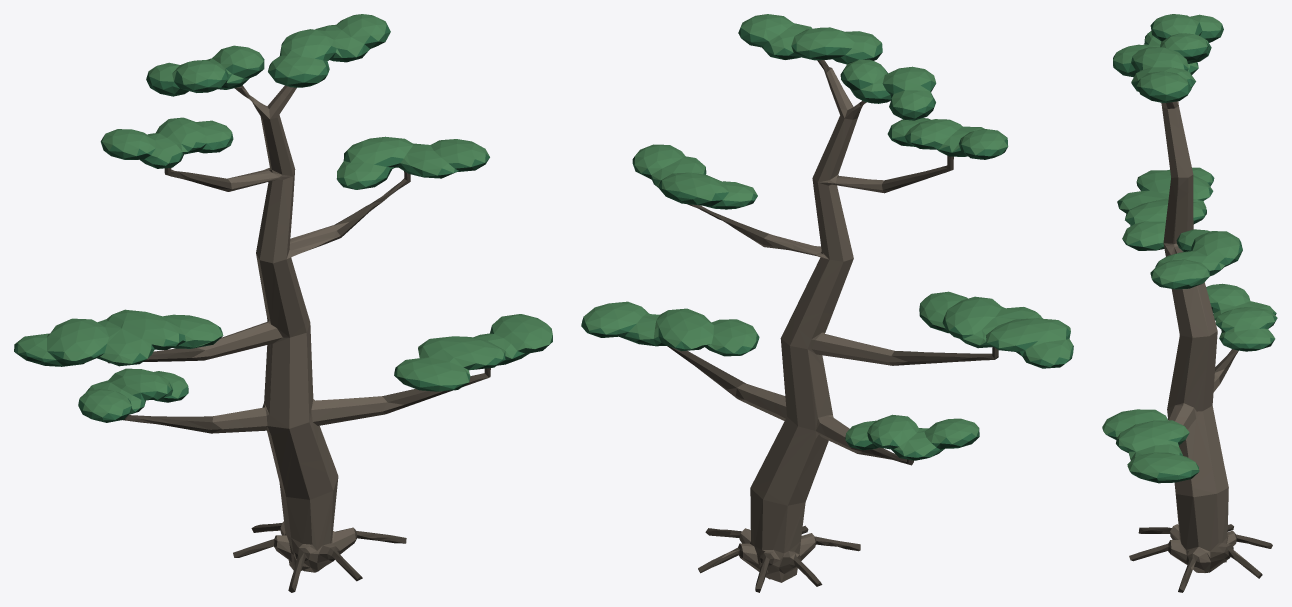
Rendered from ancient-pine-5566-lod0.glb.
3 renders of one model, left to right at view 1: azimuth 30°, elevation 25°; view 2: azimuth 150°, elevation 25°; view 3: azimuth 270°, elevation 25°, orthographic. The views are drawn at different scales.
Visible parts, largest first — view 1: n12.004, n8.004, n11.004, n9.004, n10.004; view 2: n12.004, n8.004, n11.004, n9.004, n10.004; view 3: n12.004, n8.004, n11.004, n9.004, n10.004.
Part boxes in pixels (x1,y1,x2,y2): n12.004: [15, 14, 552, 417]; n8.004: [192, 85, 405, 572]; n11.004: [14, 22, 552, 420]; n9.004: [107, 85, 490, 592]; n10.004: [15, 41, 549, 422]; n12.004: [583, 14, 1072, 456]; n8.004: [721, 68, 907, 582]; n11.004: [581, 27, 1073, 457]; n9.004: [667, 60, 998, 592]; n10.004: [581, 38, 1070, 460]; n12.004: [1102, 14, 1276, 477]; n8.004: [1161, 101, 1245, 572]; n11.004: [1102, 21, 1277, 480]; n9.004: [1129, 349, 1272, 592]; n10.004: [1107, 32, 1276, 483].
Bounding box in the file's own units: 5.23 × 5.43 × 1.7.
